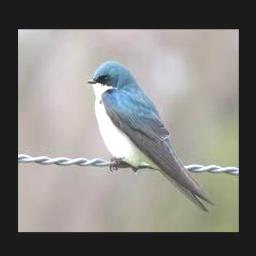Swallow: (85, 61, 215, 212)
